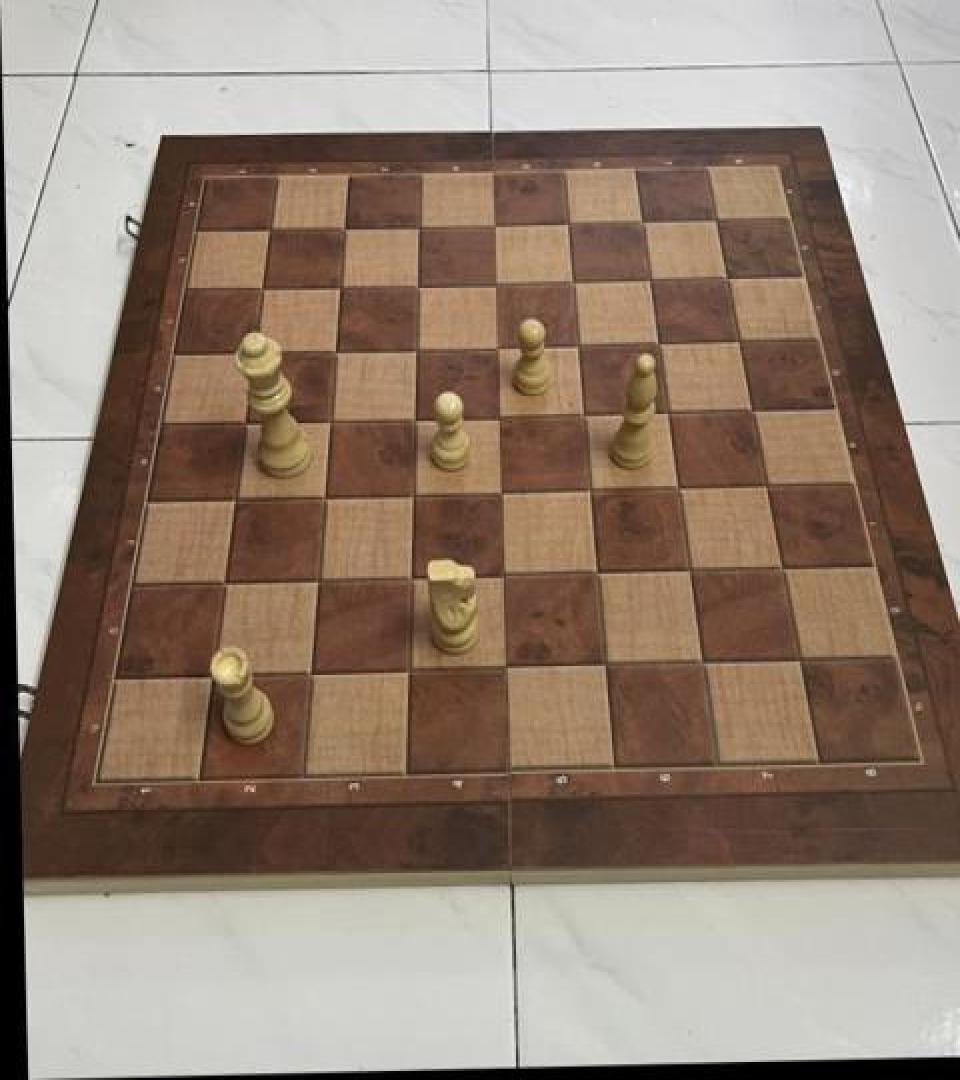xcorner: (702, 202, 736, 241), (244, 272, 278, 311), (482, 400, 516, 439), (627, 205, 661, 243), (552, 206, 586, 244), (477, 208, 511, 246), (402, 210, 436, 248), (327, 212, 361, 250), (252, 213, 286, 251), (713, 261, 747, 299), (635, 264, 669, 302), (557, 264, 591, 302), (479, 267, 513, 305), (401, 269, 435, 307), (322, 270, 356, 308), (724, 325, 758, 363), (643, 326, 677, 364), (562, 328, 596, 366), (480, 331, 514, 369), (399, 332, 433, 370), (317, 334, 351, 372), (236, 336, 270, 374), (737, 394, 771, 432), (652, 396, 686, 434), (567, 398, 601, 436), (397, 402, 431, 440), (312, 404, 346, 442), (227, 406, 261, 444), (750, 469, 784, 507), (662, 472, 696, 510), (573, 474, 607, 512), (484, 476, 518, 514), (395, 478, 429, 516), (306, 480, 340, 518), (217, 483, 251, 521), (765, 552, 799, 590), (672, 555, 706, 593), (580, 557, 614, 595), (486, 559, 520, 597), (393, 562, 427, 600), (300, 564, 334, 602), (206, 566, 240, 604), (782, 644, 816, 682), (684, 646, 718, 684), (587, 648, 621, 686), (489, 652, 523, 690), (391, 654, 425, 692), (293, 656, 327, 694), (194, 660, 228, 698)
